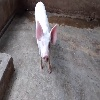heo: (33, 1, 59, 75)
